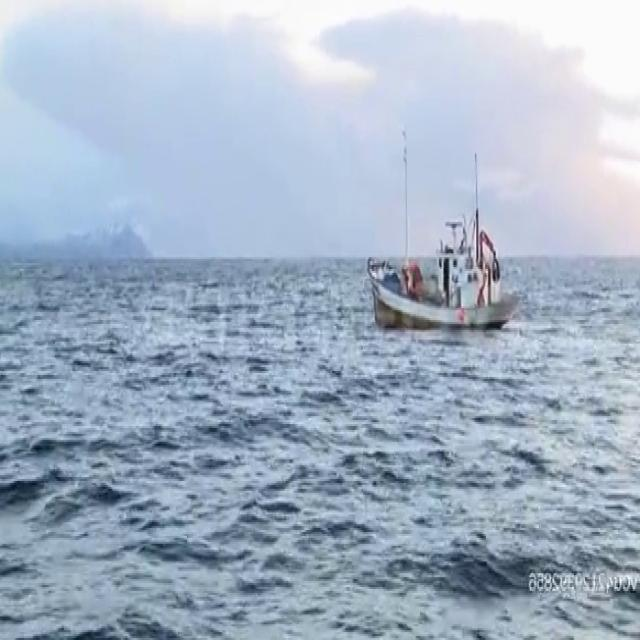fishing boat: (367, 145, 522, 326)
